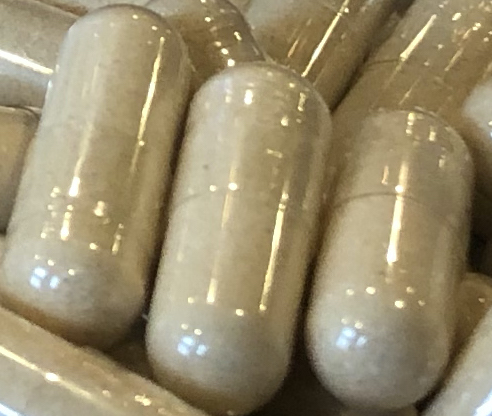capsule: (143, 3, 332, 416), (1, 3, 201, 347), (296, 104, 481, 410), (329, 1, 489, 181), (2, 308, 207, 412), (234, 1, 393, 104)
